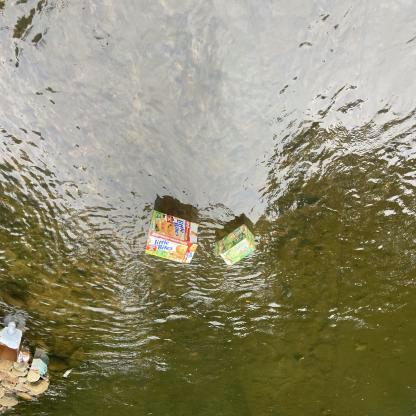Plastic: (0, 321, 23, 364), (17, 350, 23, 363)
